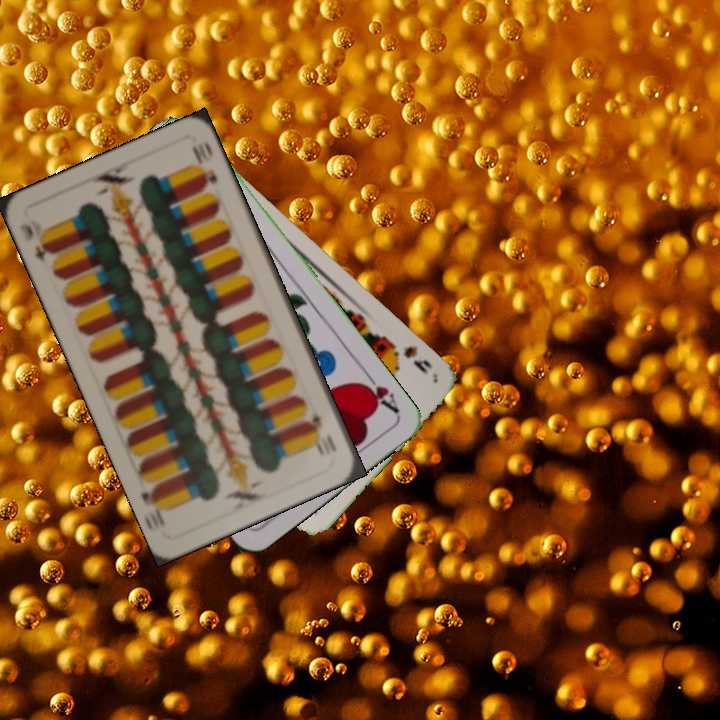E10: (15, 219, 57, 266), (307, 411, 339, 457)
HA: (354, 366, 402, 417)
S9: (383, 336, 435, 377)
